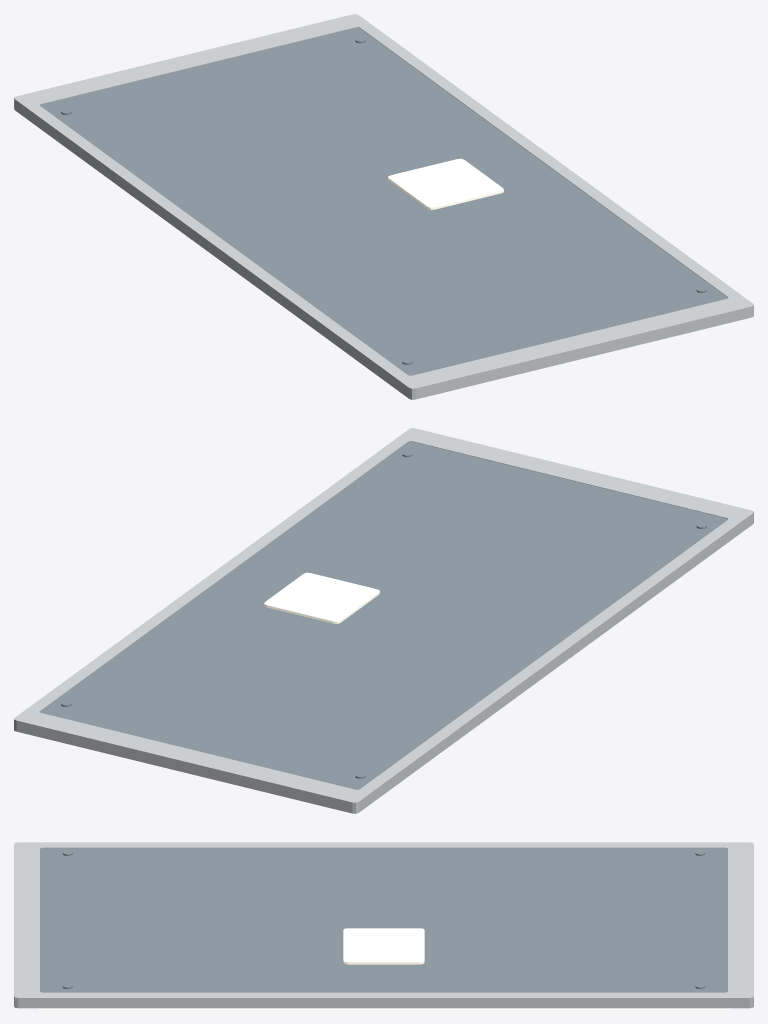
Rendered from source.glb.
The picture shows the model from 3 angles, top to bottom: view 1: azimuth 30°, elevation 25°; view 2: azimuth 150°, elevation 25°; view 3: azimuth 270°, elevation 25°; orthographic projection. The views are drawn at different scales.
Visible parts, largest first — view 1: 机加工金属, 粉末涂层铝壳, Emitters; view 2: 机加工金属, 粉末涂层铝壳, Emitters; view 3: 机加工金属, 粉末涂层铝壳, Emitters.
Part boxes in pixels (<box>): 机加工金属: <box>40,27,727,375</box>; 粉末涂层铝壳: <box>14,14,753,399</box>; Emitters: <box>388,158,503,209</box>; 机加工金属: <box>40,441,727,789</box>; 粉末涂层铝壳: <box>14,428,753,813</box>; Emitters: <box>264,572,379,623</box>; 机加工金属: <box>40,848,727,992</box>; 粉末涂层铝壳: <box>14,842,753,1008</box>; Emitters: <box>36,928,731,1009</box>.
Bounding box in the file's own units: 0.595 × 0.0343 × 1.2.
